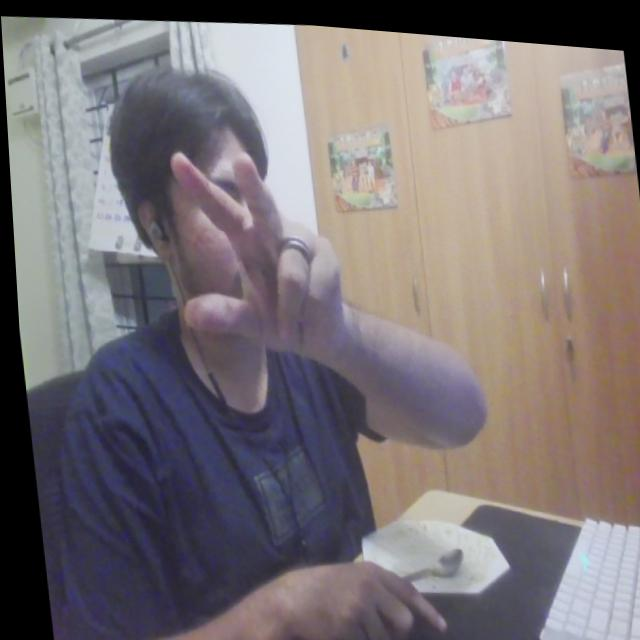no: (164, 138, 355, 396)
